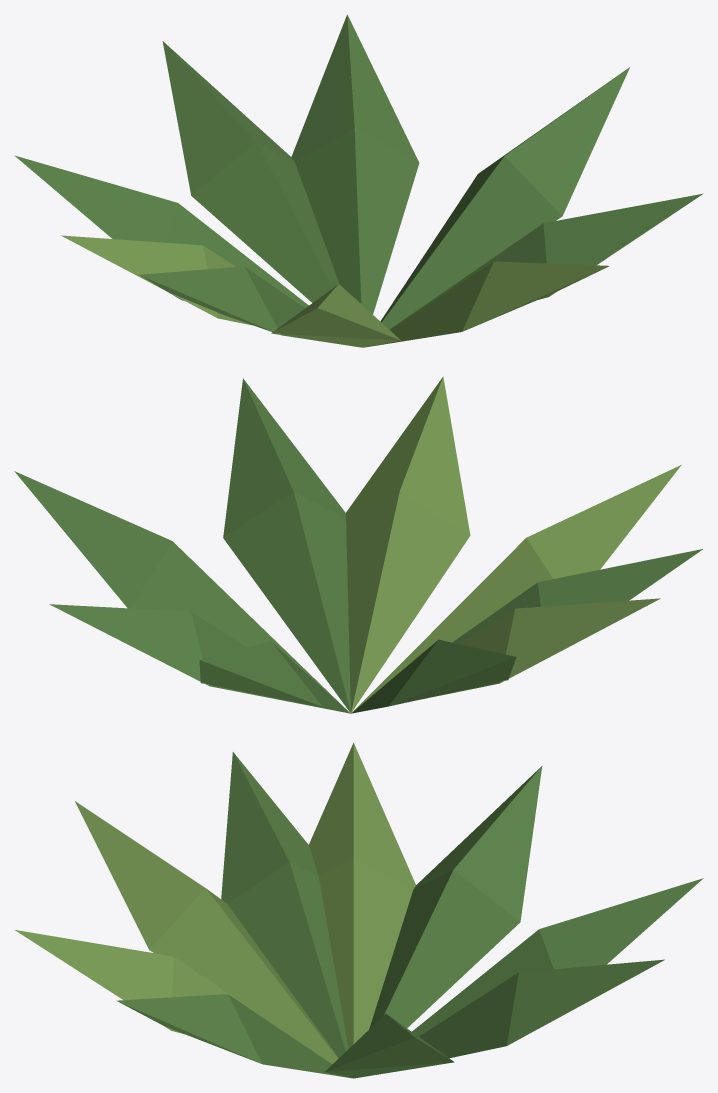
File: ForestFern.fbx
The picture shows the model from 3 angles, top to bottom: view 1: azimuth 30°, elevation 25°; view 2: azimuth 150°, elevation 25°; view 3: azimuth 270°, elevation 25°; orthographic projection. The views are drawn at different scales.
Parts seen in each view (by area): view 1: FA_ForestFern; view 2: FA_ForestFern; view 3: FA_ForestFern.
Part boxes in pixels (bbox=[...]): FA_ForestFern: bbox=[14, 14, 703, 347]; FA_ForestFern: bbox=[14, 376, 702, 713]; FA_ForestFern: bbox=[14, 743, 703, 1078].
Size of the model in its own units: 1.69 by 0.5 by 1.67.
